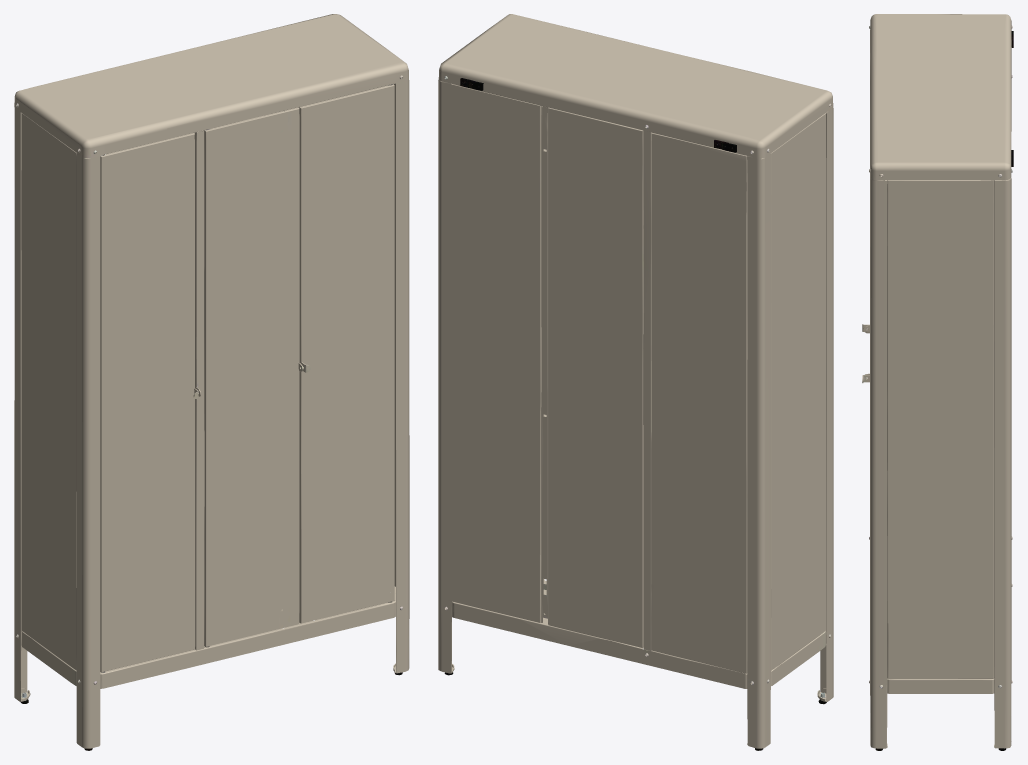
Rendered from kolbjorn-mueble-de-almacenaje-beige-exteriorinterior.glb.
3 renders of one model, left to right at view 1: azimuth 30°, elevation 25°; view 2: azimuth 150°, elevation 25°; view 3: azimuth 270°, elevation 25°, orthographic. The views are drawn at different scales.
Visible parts, largest first — view 1: ASY_ART_60601862_S01_NV01; view 2: ASY_ART_60601862_S01_NV01; view 3: ASY_ART_60601862_S01_NV01.
Part boxes in pixels (x1,y1,x2,y2): ASY_ART_60601862_S01_NV01: [14, 14, 409, 750]; ASY_ART_60601862_S01_NV01: [438, 14, 833, 750]; ASY_ART_60601862_S01_NV01: [862, 14, 1013, 750].
Size of the model in its own units: 0.9068 by 1.61 by 0.3762.
1 material, 1 textured.
